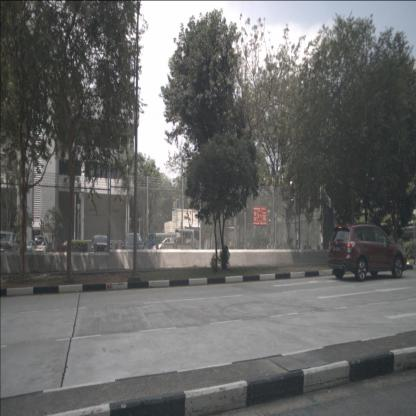vehicle-car: (327, 224, 407, 282), (121, 233, 145, 260), (0, 231, 23, 259), (88, 235, 112, 261), (151, 237, 179, 255), (31, 236, 49, 255), (26, 240, 37, 254)
vehicle-truck: (164, 228, 202, 255), (146, 233, 176, 253)
